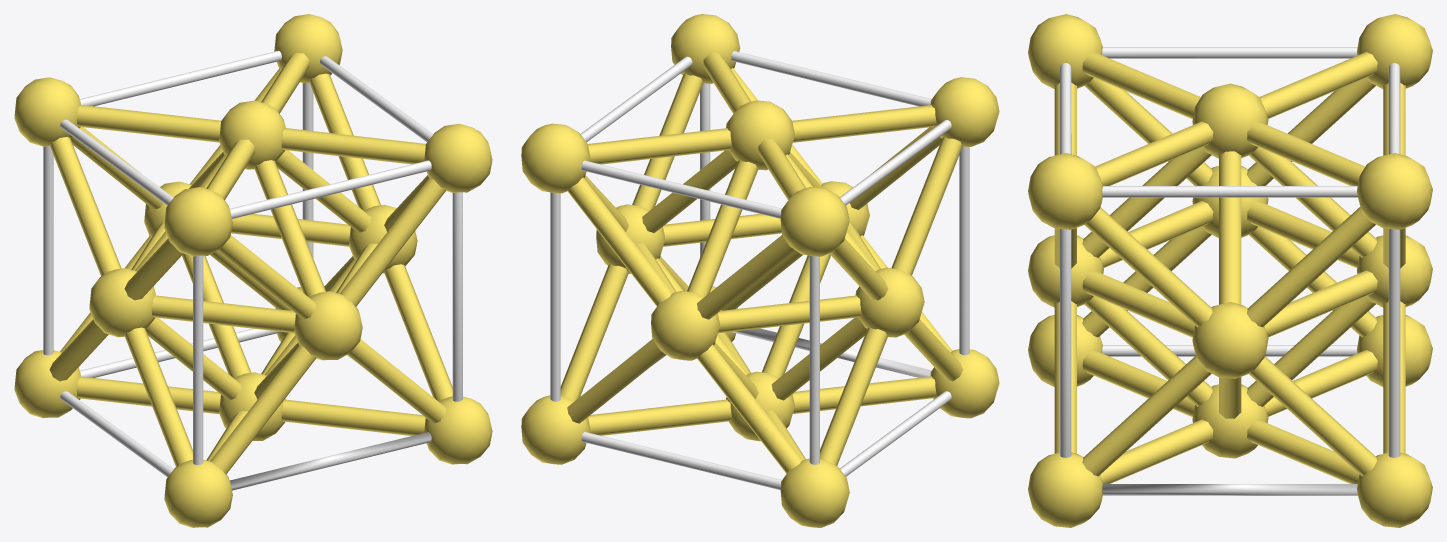
File: Oro.fbx
3 renders of one model, left to right at view 1: azimuth 30°, elevation 25°; view 2: azimuth 150°, elevation 25°; view 3: azimuth 270°, elevation 25°, orthographic. The views are drawn at different scales.
Visible parts, largest first — view 1: Au, limite; view 2: Au, limite; view 3: Au, limite.
Boxes of the visible parts, box(x1,y1,x2,y2) form: Au: box(14, 14, 492, 527); limite: box(43, 50, 462, 490); Au: box(521, 14, 999, 527); limite: box(550, 51, 969, 489); Au: box(1028, 14, 1432, 527); limite: box(1060, 47, 1400, 495).
Size of the model in its own units: 500 by 503 by 502.
